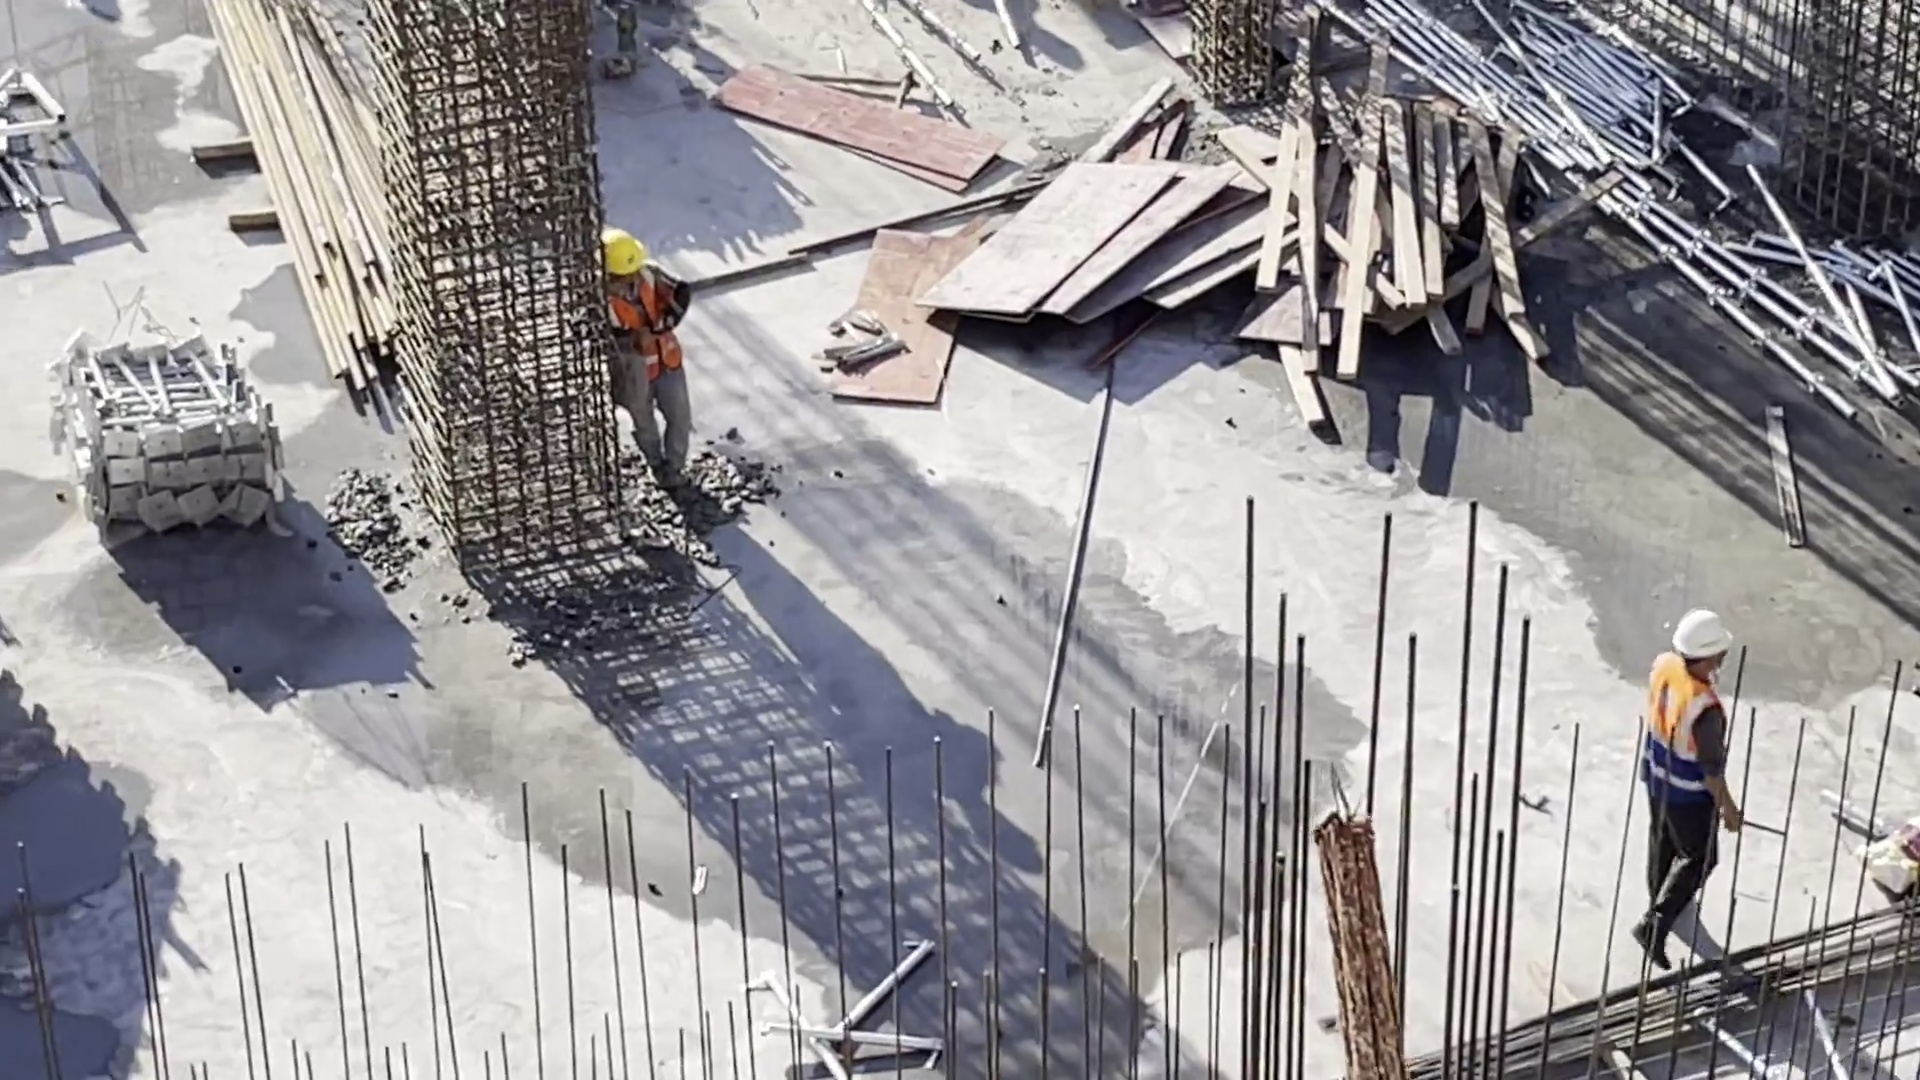board: (940, 165, 1261, 333)
helmet: (1673, 606, 1737, 660), (581, 233, 654, 268)
person: (594, 229, 743, 518), (1651, 600, 1743, 945)
rebar: (1434, 894, 1910, 1080)
scaffold: (53, 322, 283, 536), (1444, 1, 1691, 198)
vest: (1643, 654, 1731, 807), (603, 273, 701, 375)
wood: (1276, 64, 1544, 442)
